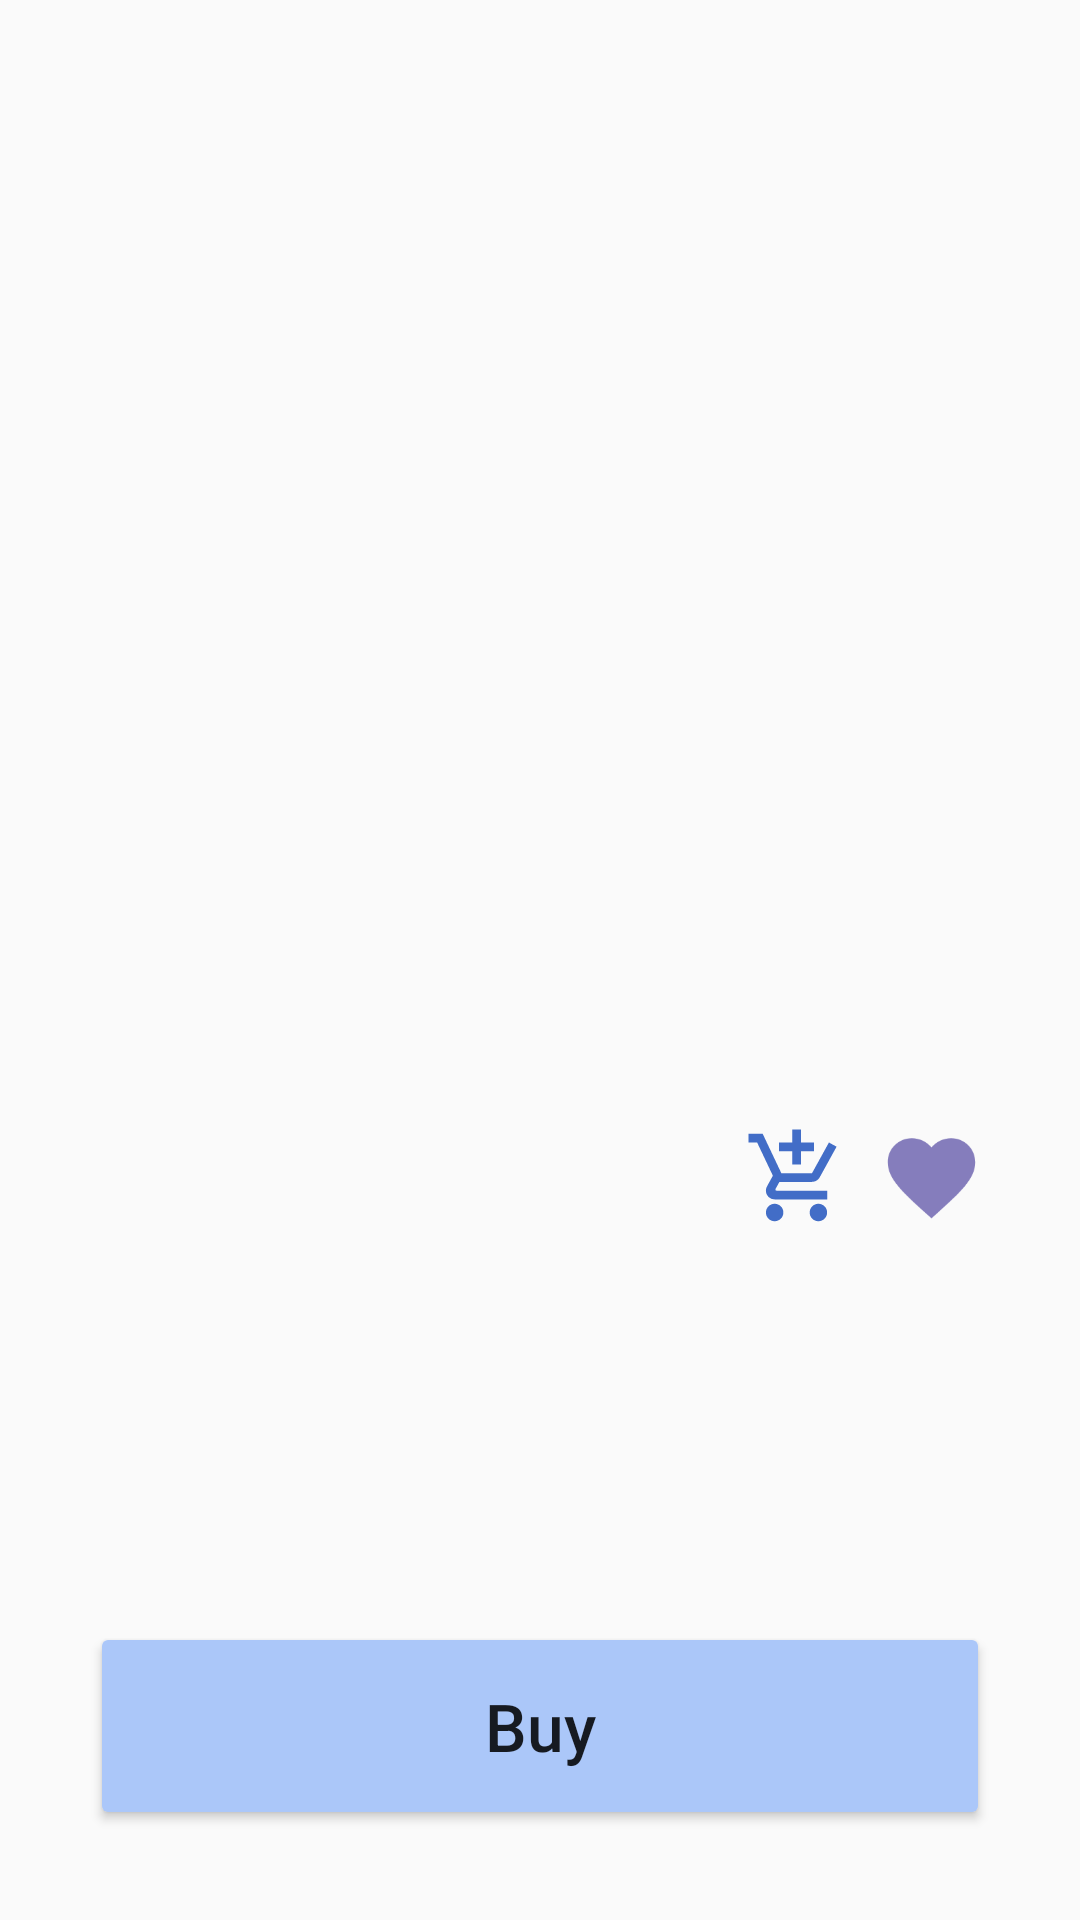

Icon bounding boxes for this 1080w x 1920h phone screenshot, format box=[x1, y1, x2, y2]:
add shopping cart: box=[748, 1129, 837, 1222]
favorite: box=[887, 1138, 975, 1219]
